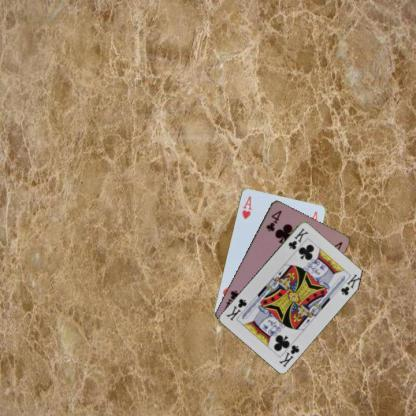4c: (264, 207, 284, 233)
Ah: (239, 193, 253, 220)
Kc: (276, 342, 300, 368), (285, 226, 310, 250)
